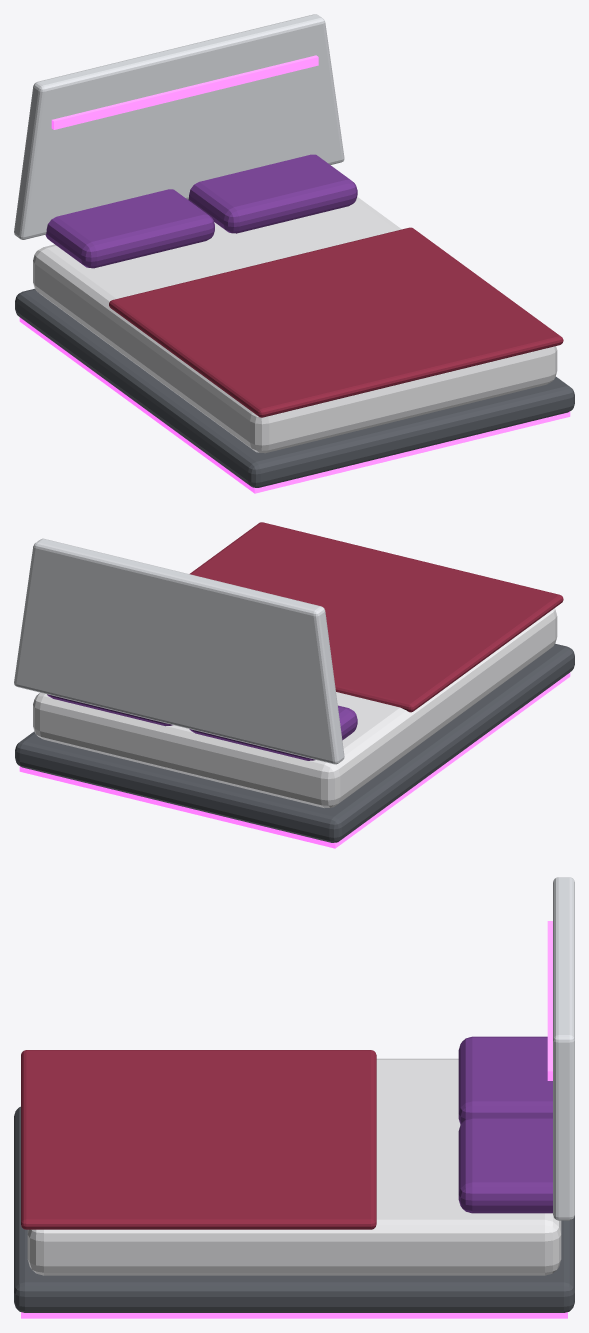
The model's file is bed_float.glb.
3 renders of one model, top to bottom at view 1: azimuth 30°, elevation 25°; view 2: azimuth 150°, elevation 25°; view 3: azimuth 270°, elevation 25°, orthographic. The views are drawn at different scales.
Parts seen in each view (by area): view 1: GD_bed_float__m5, GD_bed_float__m2, GD_bed_float__m4, GD_bed_float__m1, GD_bed_float__m6, GD_bed_float__m3; view 2: GD_bed_float__m2, GD_bed_float__m5, GD_bed_float__m4, GD_bed_float__m1, GD_bed_float__m3, GD_bed_float__m6; view 3: GD_bed_float__m5, GD_bed_float__m4, GD_bed_float__m1, GD_bed_float__m6, GD_bed_float__m2, GD_bed_float__m3.
Part boxes in pixels (bbox=[...]): GD_bed_float__m5: bbox=[109, 227, 563, 417]; GD_bed_float__m2: bbox=[14, 14, 344, 239]; GD_bed_float__m4: bbox=[33, 196, 557, 453]; GD_bed_float__m1: bbox=[15, 288, 574, 487]; GD_bed_float__m6: bbox=[45, 154, 357, 268]; GD_bed_float__m3: bbox=[19, 55, 570, 493]; GD_bed_float__m2: bbox=[14, 538, 344, 764]; GD_bed_float__m5: bbox=[190, 522, 563, 712]; GD_bed_float__m4: bbox=[33, 608, 557, 808]; GD_bed_float__m1: bbox=[15, 643, 574, 842]; GD_bed_float__m3: bbox=[19, 672, 570, 848]; GD_bed_float__m6: bbox=[47, 694, 357, 760]; GD_bed_float__m5: bbox=[21, 1050, 376, 1229]; GD_bed_float__m4: bbox=[27, 1058, 561, 1275]; GD_bed_float__m1: bbox=[14, 1106, 574, 1312]; GD_bed_float__m6: bbox=[458, 1036, 552, 1213]; GD_bed_float__m2: bbox=[553, 877, 574, 1220]; GD_bed_float__m3: bbox=[21, 921, 567, 1318].
Bounding box in the file's own units: 1.6 × 1.2 × 2.05.
